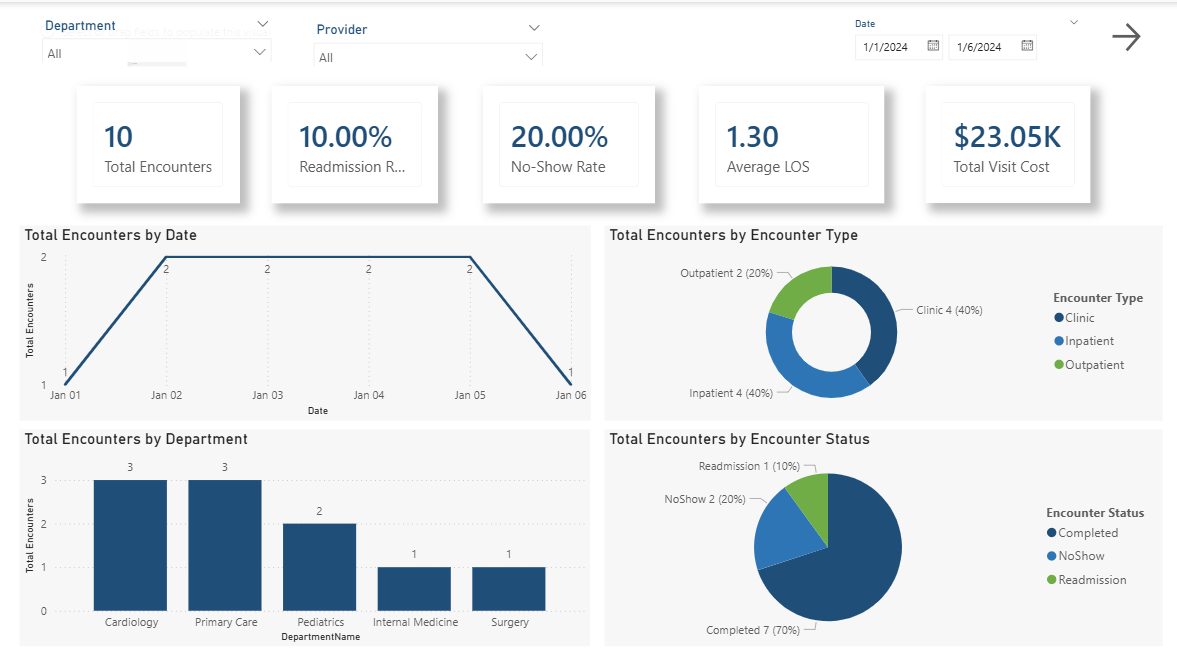

The dashboard page shown, as its layout file describes it:
{"tool":"powerbi","page":{"name":"Executive Summary","canvas":[1280,720],"ordinal":1},"visuals":[{"type":"cardVisual","fields":{"Data":["FactEncounter.Total Encounters"]},"box":[85,90.7,175.7,126.6],"z":0},{"type":"cardVisual","fields":{"Data":["FactEncounter.Readmission Rate"]},"box":[296.7,90.7,179.5,126.6],"z":1000},{"type":"cardVisual","fields":{"Data":["FactEncounter.No-Show Rate"]},"box":[525.4,90.7,185.2,126.6],"z":2000},{"type":"cardVisual","fields":{"Data":["FactEncounter.Average LOS"]},"box":[757.8,90.7,200.3,126.6],"z":3000},{"type":"cardVisual","fields":{"Data":["FactEncounter.Total Visit Cost"]},"box":[1002.3,90.7,178.1,126.3],"z":4000},{"type":"lineChart","fields":{"Category":["DimDate.Date"],"Y":["FactEncounter.Total Encounters"]},"box":[24.3,241.3,616.9,210.5],"z":5000},{"type":"donutChart","fields":{"Category":["FactEncounter.EncounterType"],"Y":["FactEncounter.Total Encounters"]},"box":[655.8,241.3,602.4,210.5],"z":6000},{"type":"columnChart","title":"Total Encounters by Department","fields":{"Category":["DimDepartment.DepartmentName"],"Y":["FactEncounter.Total Encounters"]},"box":[24.6,461.1,616.1,234.3],"z":7000},{"type":"pieChart","fields":{"Y":["FactEncounter.Total Encounters"],"Category":["FactEncounter.EncounterStatus"]},"box":[655.8,461.1,602.8,234.3],"z":8000},{"type":"slicer","box":[38.9,16.2,267.2,53.4],"z":9000},{"type":"slicer","fields":{"Values":["DimProvider.ProviderName"]},"box":[331.9,16.2,267.2,53.4],"z":10000},{"type":"slicer","fields":{"Values":["DimDepartment.DepartmentName"]},"box":[38.9,11.3,267.2,53.4],"z":11000},{"type":"slicer","fields":{"Values":["DimDate.Date"]},"box":[913.2,11.3,267.2,64.8],"z":12000},{"type":"actionButton","box":[1198.2,17.8,59.9,40.5],"z":13000}]}

Visuals, with their boxes in screenshot pixels (x1, y1, x2, y2), scaled from the page's 1280x720 canvas onto the 1177x658 screenshot:
cardVisual - FactEncounter.Total Encounters: bbox=(78, 83, 240, 199)
cardVisual - FactEncounter.Readmission Rate: bbox=(273, 83, 438, 199)
cardVisual - FactEncounter.No-Show Rate: bbox=(483, 83, 653, 199)
cardVisual - FactEncounter.Average LOS: bbox=(697, 83, 881, 199)
cardVisual - FactEncounter.Total Visit Cost: bbox=(922, 83, 1085, 198)
lineChart - DimDate.Date x FactEncounter.Total Encounters: bbox=(22, 221, 590, 413)
donutChart - FactEncounter.EncounterType x FactEncounter.Total Encounters: bbox=(603, 221, 1157, 413)
"Total Encounters by Department" columnChart: bbox=(23, 421, 589, 636)
pieChart - FactEncounter.Total Encounters x FactEncounter.EncounterStatus: bbox=(603, 421, 1157, 636)
slicer: bbox=(36, 15, 281, 64)
slicer - DimProvider.ProviderName: bbox=(305, 15, 551, 64)
slicer - DimDepartment.DepartmentName: bbox=(36, 10, 281, 59)
slicer - DimDate.Date: bbox=(840, 10, 1085, 70)
actionButton: bbox=(1102, 16, 1157, 53)
